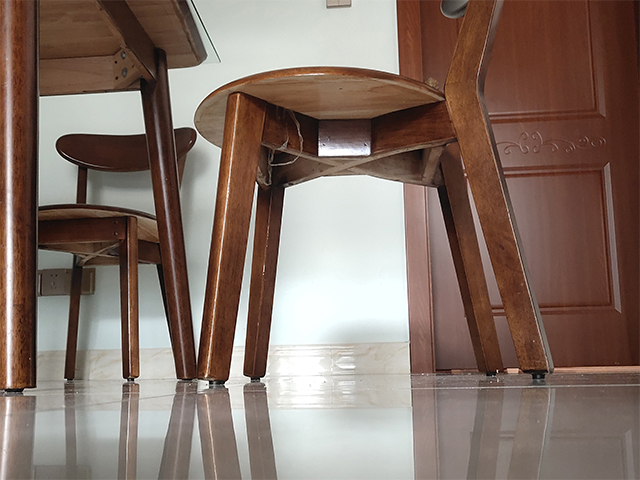stool: (195, 1, 561, 382), (34, 124, 199, 381)
table: (1, 1, 223, 393)
